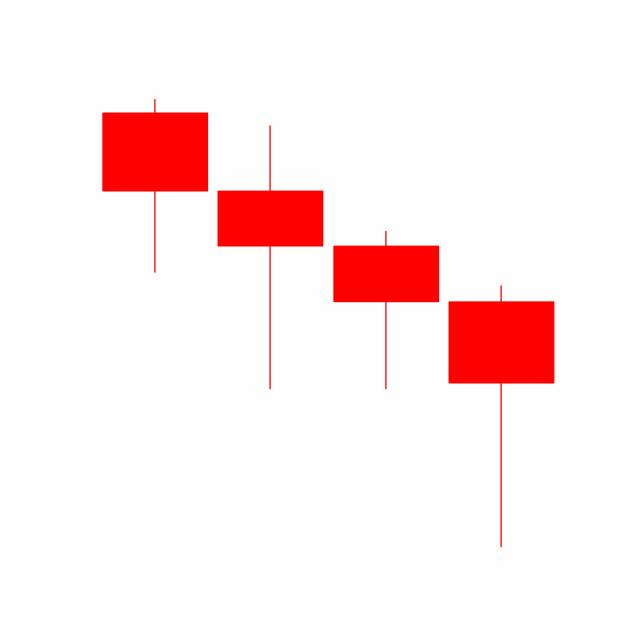Hammer: (443, 282, 559, 550)
